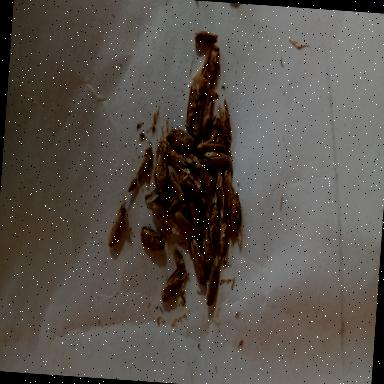pbw: (147, 200, 175, 252), (187, 237, 209, 285), (160, 264, 186, 304), (186, 152, 209, 195), (164, 126, 196, 156), (152, 140, 169, 196), (200, 220, 218, 272), (107, 204, 127, 250), (228, 190, 245, 243), (186, 199, 205, 243), (212, 167, 228, 218), (200, 88, 216, 138), (165, 164, 186, 202), (170, 212, 196, 242), (184, 84, 200, 132), (215, 98, 233, 140), (165, 146, 192, 174), (198, 47, 212, 101), (202, 166, 219, 210), (205, 257, 220, 306), (139, 226, 166, 253), (208, 203, 222, 253), (177, 168, 202, 196), (206, 128, 231, 154), (217, 216, 230, 266), (194, 134, 222, 157), (191, 98, 204, 144), (203, 149, 231, 170), (208, 44, 220, 90), (220, 169, 233, 211), (194, 30, 218, 44), (144, 188, 160, 204)
